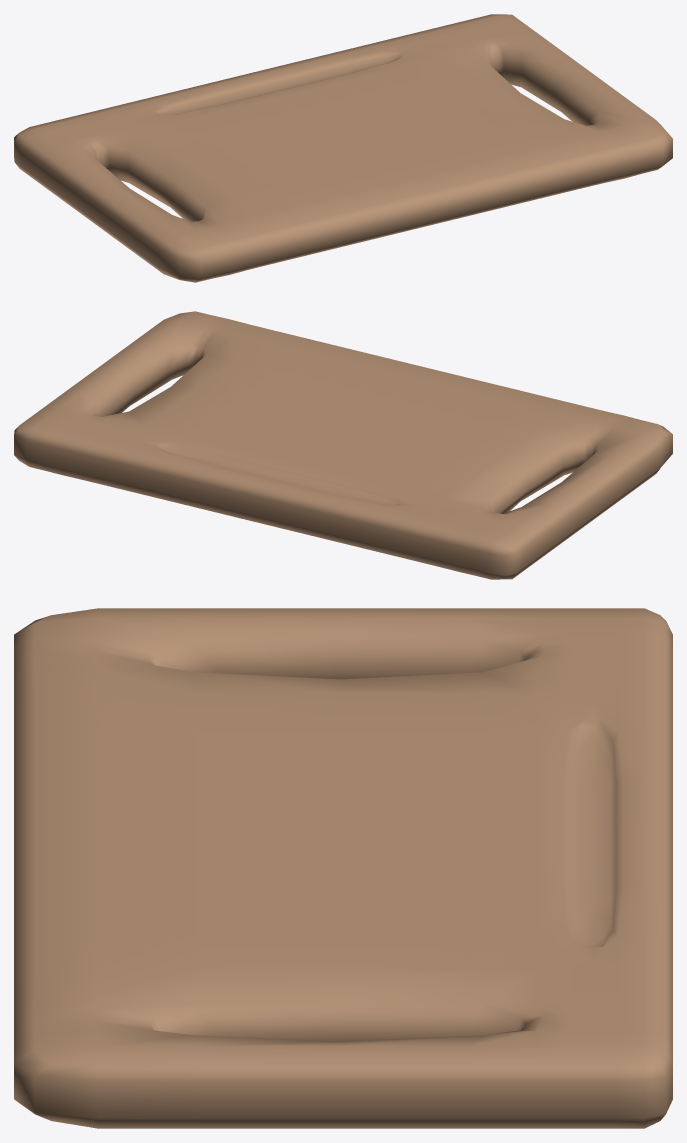
Rendered from cutting_board.fbx.
The picture shows the model from 3 angles, top to bottom: view 1: azimuth 30°, elevation 25°; view 2: azimuth 150°, elevation 25°; view 3: azimuth 270°, elevation 25°; orthographic projection. The views are drawn at different scales.
Visible parts, largest first — view 1: pCube3; view 2: pCube3; view 3: pCube3.
Part boxes in pixels (box(x1,y1,x2,y2)): pCube3: box(14, 14, 672, 282); pCube3: box(14, 311, 672, 579); pCube3: box(14, 608, 672, 1128).
Size of the model in its own units: 146 by 10.72 by 87.24.
